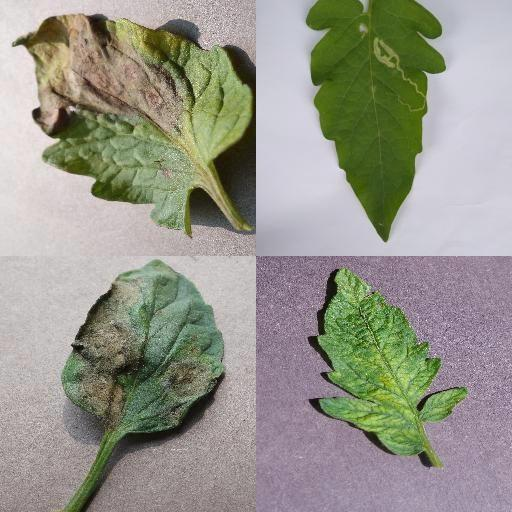Late Blight: (12, 9, 254, 241), (60, 258, 228, 434)
Leaf Miner: (305, 0, 448, 242)
Mosaic Virus: (313, 262, 469, 456)
